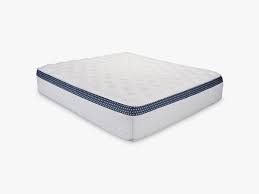bed-matress: (36, 52, 224, 141)
